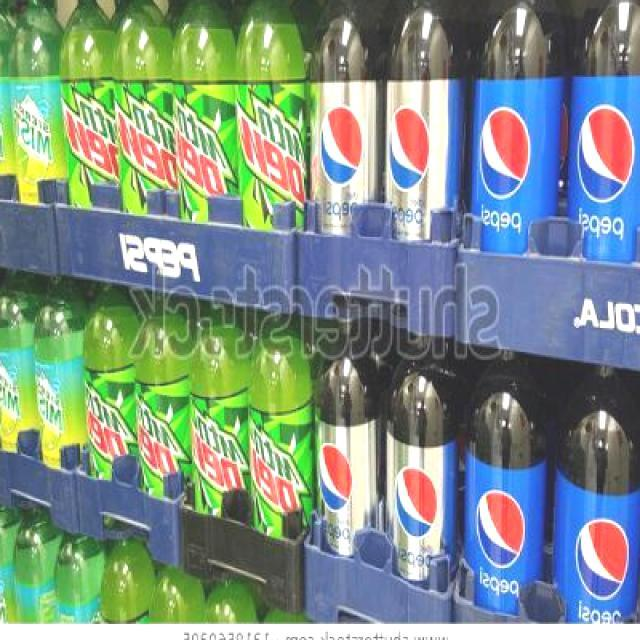Drinks: (470, 0, 567, 254), (550, 358, 640, 621), (463, 354, 550, 609), (386, 0, 470, 245), (383, 339, 463, 592), (568, 0, 640, 264), (307, 0, 387, 237), (234, 0, 308, 232), (314, 316, 382, 562), (246, 314, 314, 540), (171, 0, 235, 224), (112, 0, 171, 219), (190, 303, 248, 521), (131, 292, 189, 503), (59, 0, 112, 211), (81, 276, 132, 487)
